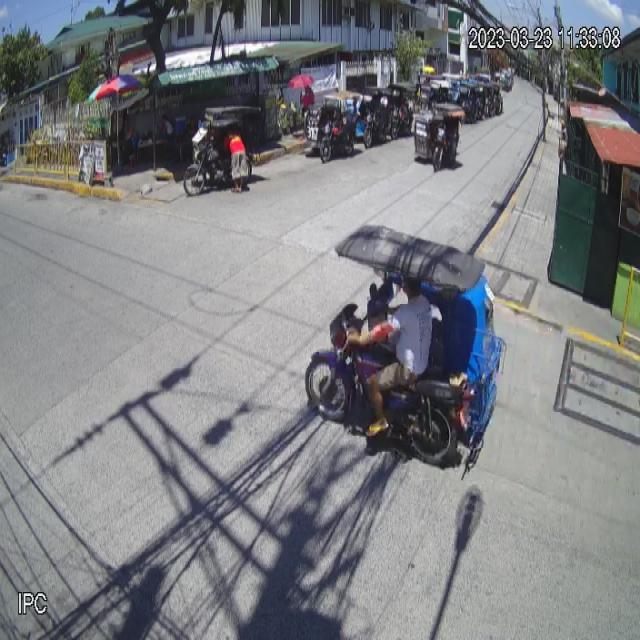Tricycle: (304, 222, 506, 472)
